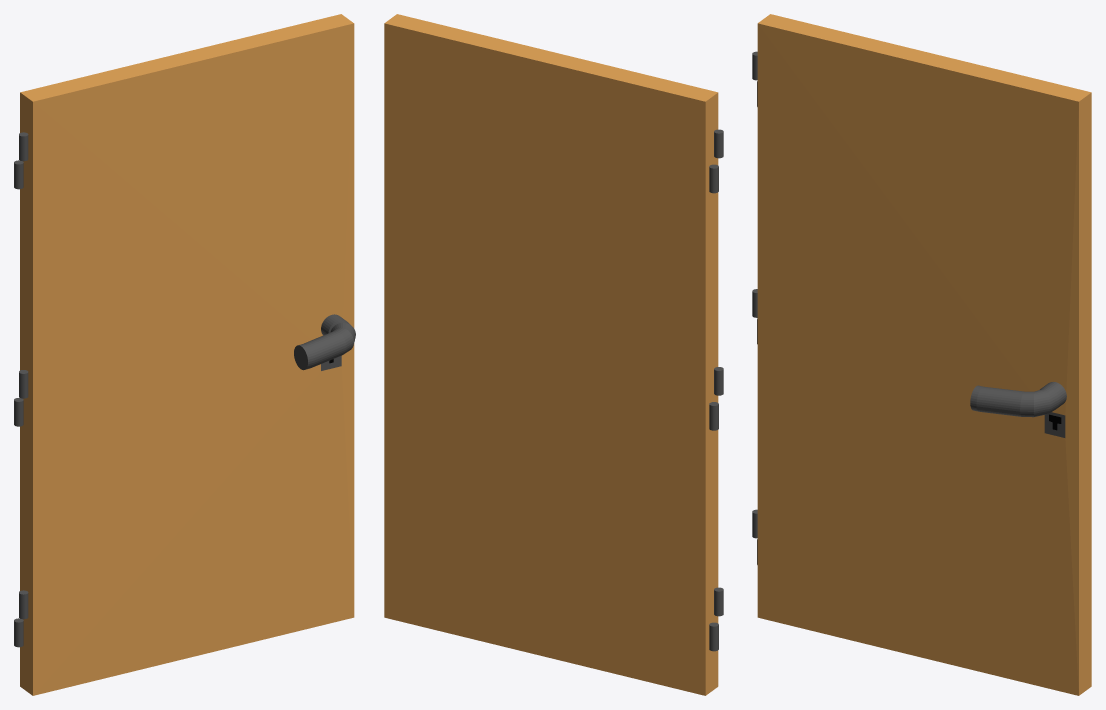
File: low_poly_door.glb
The picture shows the model from 3 angles, left to right: view 1: azimuth 30°, elevation 25°; view 2: azimuth 150°, elevation 25°; view 3: azimuth 330°, elevation 25°; orthographic projection.
Visible parts, largest first — view 1: Cube_0; view 2: Cube_0; view 3: Cube_0.
Boxes of the visible parts, <box> form: Cube_0: <box>14,14,355,695</box>; Cube_0: <box>384,14,723,695</box>; Cube_0: <box>752,14,1091,695</box>.
Size of the model in its own units: 2.06 by 3.54 by 0.4752.
